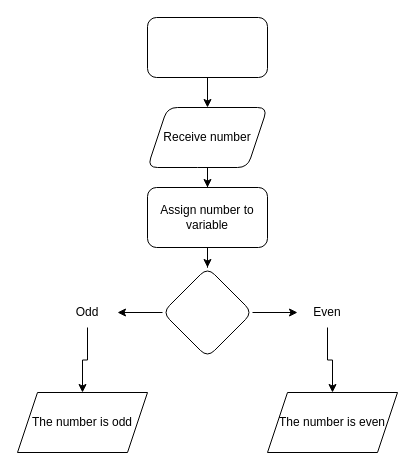
Some shapes in this 415 by 470 pixel diagram are drawn without their labels. The shapes that lost their labels are listed below. From the top down, each one's box as (x1, y1, x2, y2) in pixels, then its label:
(146, 16, 268, 78): Checking numbers
(162, 266, 252, 358): Odd or Even?
